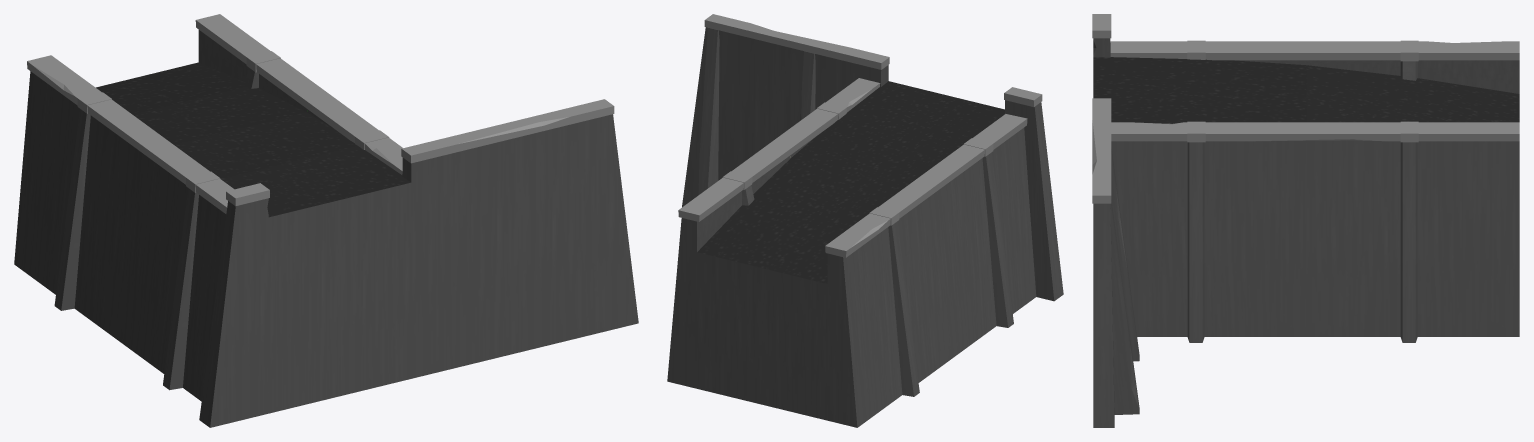
Rendered from SW_ENV_OpenTunnel_Riser_Single_End.fbx.
3 views of the same model, side by side, from view 1: azimuth 30°, elevation 25°; view 2: azimuth 150°, elevation 25°; view 3: azimuth 270°, elevation 25° (orthographic). The views are drawn at different scales.
Visible parts, largest first — view 1: SW_ENV_OpenTunnel_Riser_Single_End; view 2: SW_ENV_OpenTunnel_Riser_Single_End; view 3: SW_ENV_OpenTunnel_Riser_Single_End.
Boxes of the visible parts, bbox=[...] form: SW_ENV_OpenTunnel_Riser_Single_End: bbox=[14, 14, 638, 427]; SW_ENV_OpenTunnel_Riser_Single_End: bbox=[667, 14, 1063, 427]; SW_ENV_OpenTunnel_Riser_Single_End: bbox=[1092, 14, 1519, 427].
Size of the model in its own units: 11.43 by 5.7 by 10.02.
